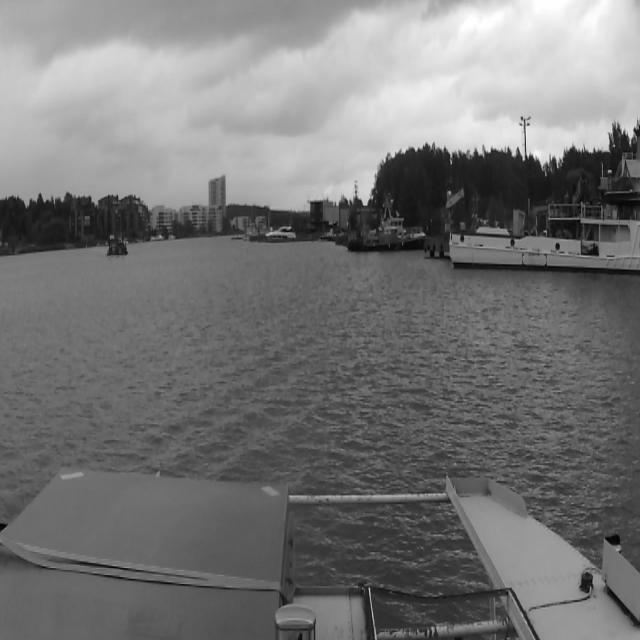ship: (446, 185, 640, 275), (106, 234, 128, 257), (265, 225, 296, 240)
